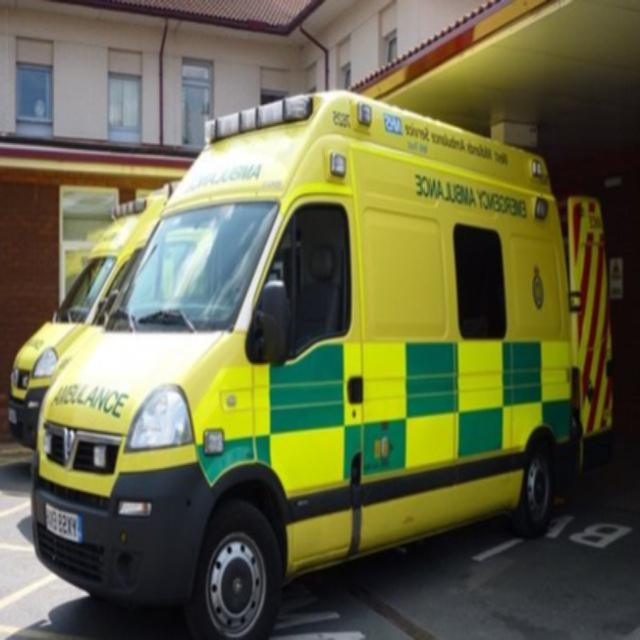Ambulance: (30, 88, 614, 638), (560, 193, 616, 474)
